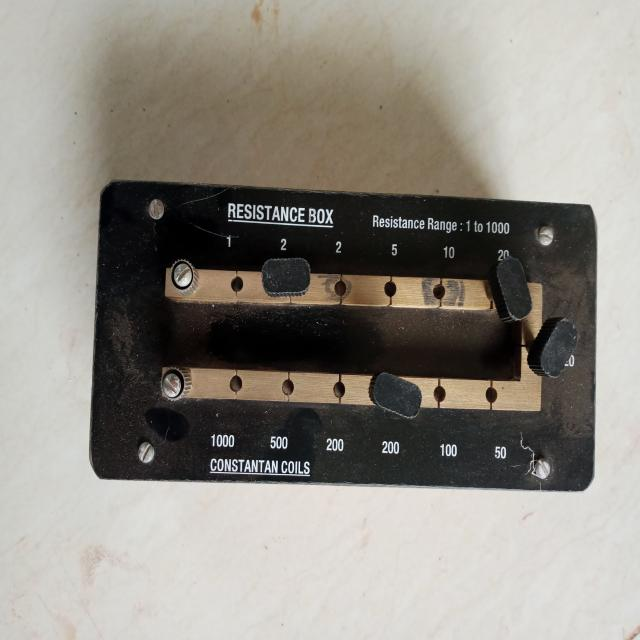Pinned Resistance Box: (80, 164, 603, 506)
